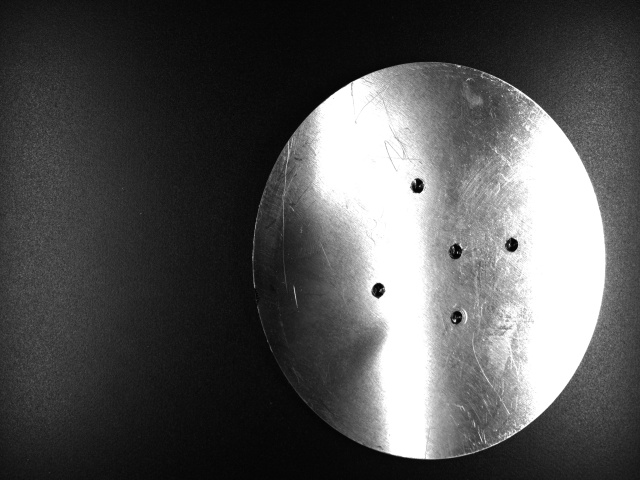zhen_kong: (445, 305, 468, 326), (369, 279, 387, 300), (503, 233, 520, 255), (405, 178, 425, 196), (447, 241, 463, 261)
